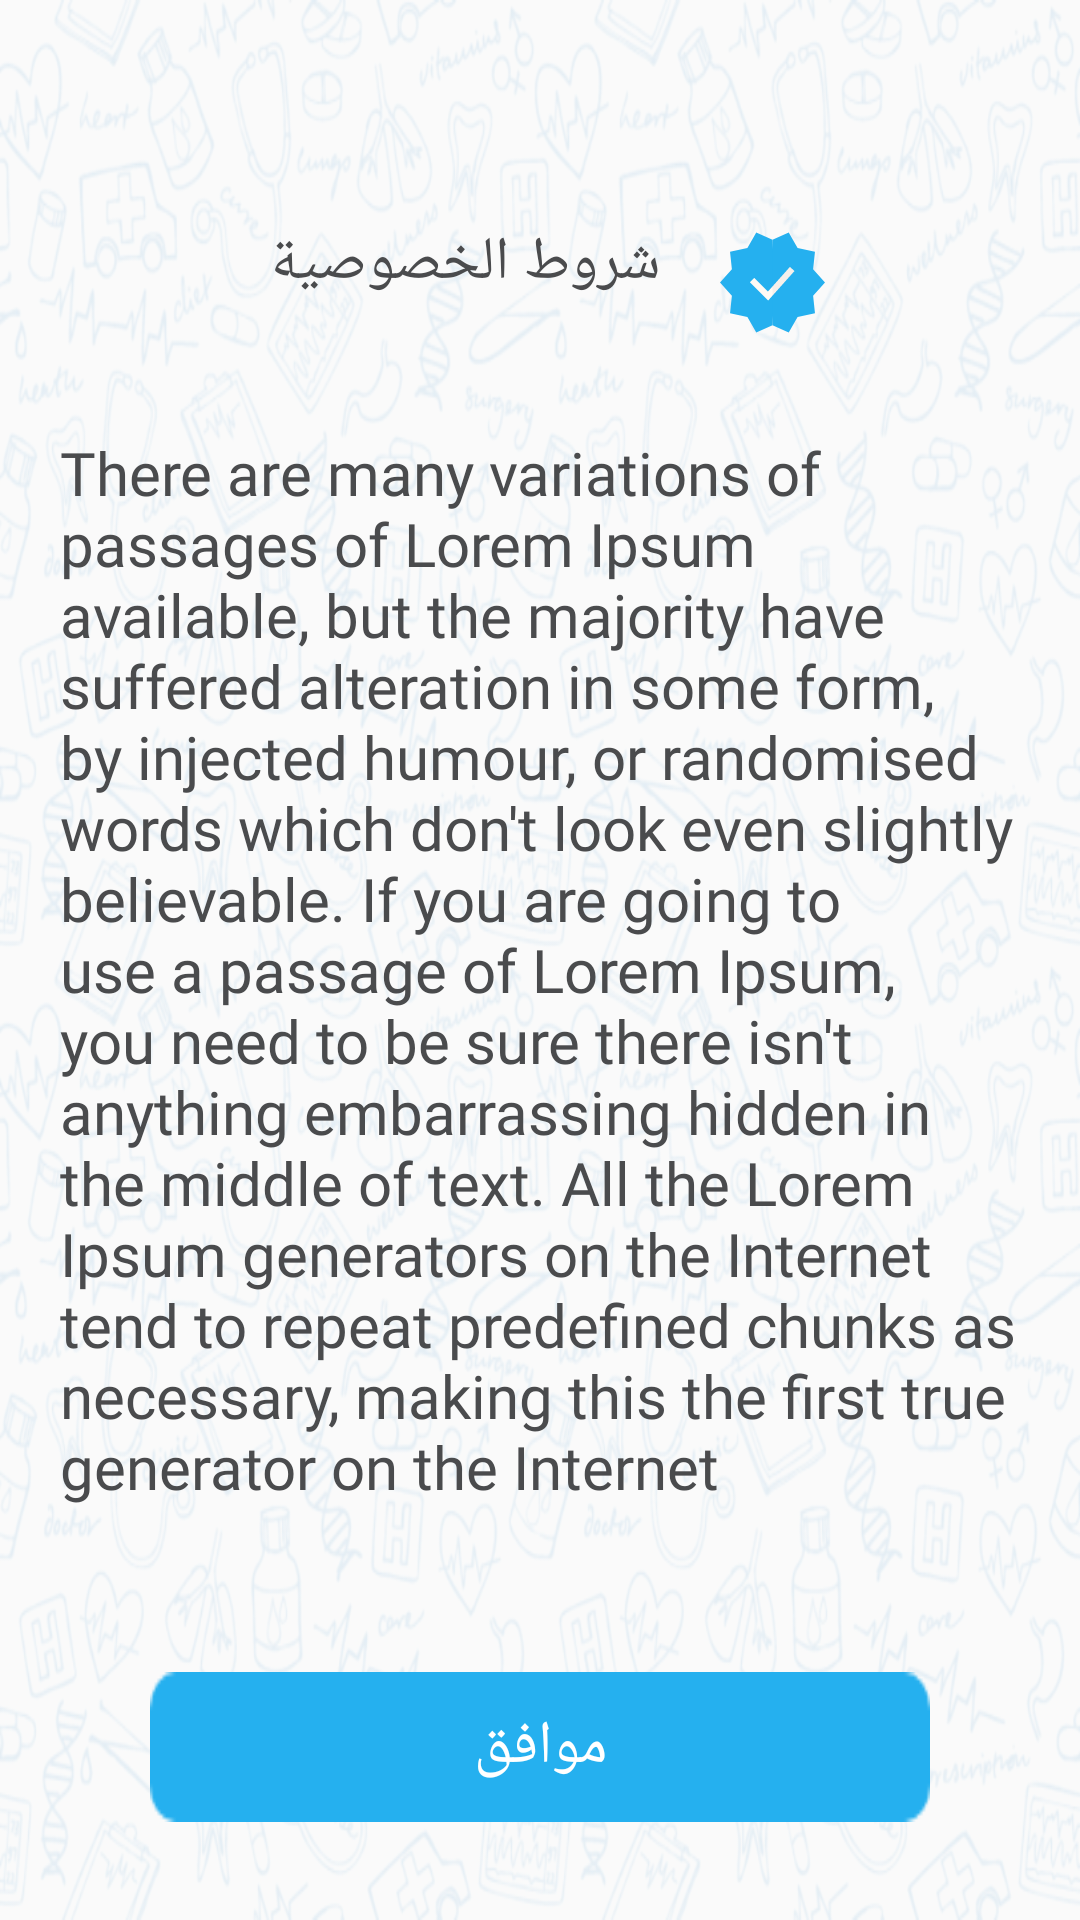

Screen size 1080x1920. Icon name, then its center in pixels as point (x, y):
check: point (772, 282)
